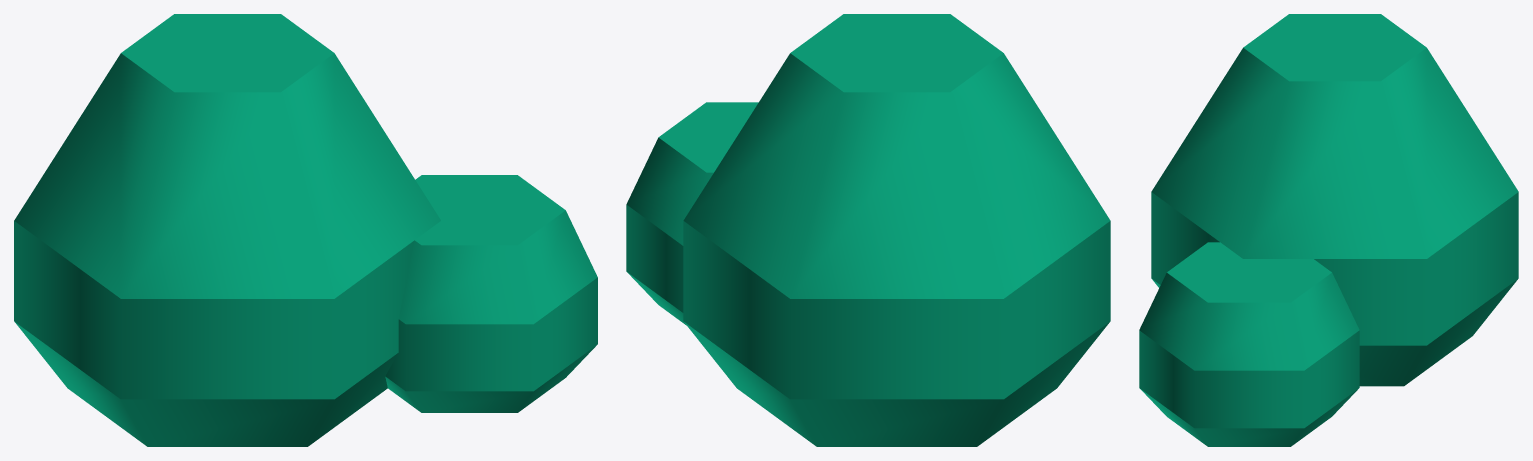
File: bushes.fbx
The picture shows the model from 3 angles, left to right: view 1: azimuth 30°, elevation 25°; view 2: azimuth 150°, elevation 25°; view 3: azimuth 270°, elevation 25°; orthographic projection. The views are drawn at different scales.
Visible parts, largest first — view 1: leafs_cone, leafs_round; view 2: leafs_cone, leafs_round; view 3: leafs_cone, leafs_round.
Part boxes in pixels (box(x1,y1,x2,y2)): leafs_cone: box(14, 14, 440, 446); leafs_round: box(385, 175, 597, 412); leafs_cone: box(683, 14, 1110, 446); leafs_round: box(626, 102, 758, 325); leafs_cone: box(1151, 14, 1518, 386); leafs_round: box(1139, 242, 1359, 446).
Size of the model in its own units: 14 by 10 by 11.93.
